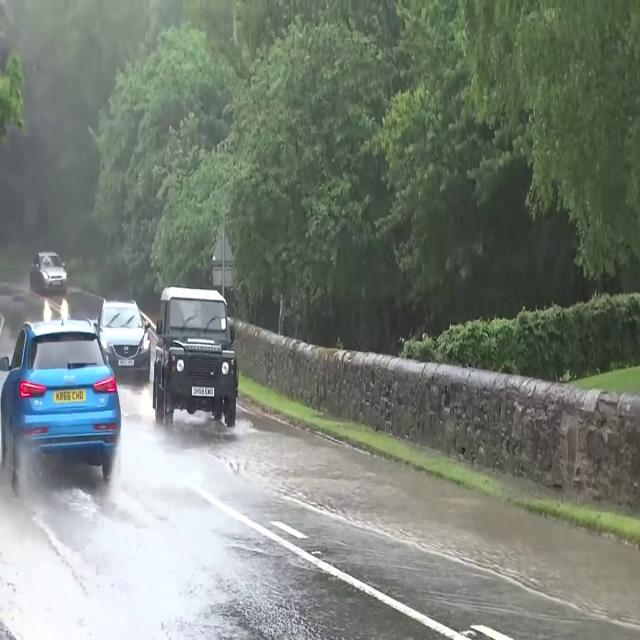license-plate-annotation: (50, 382, 88, 406)
